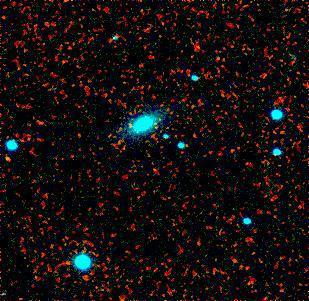star: (0, 144, 24, 174)
